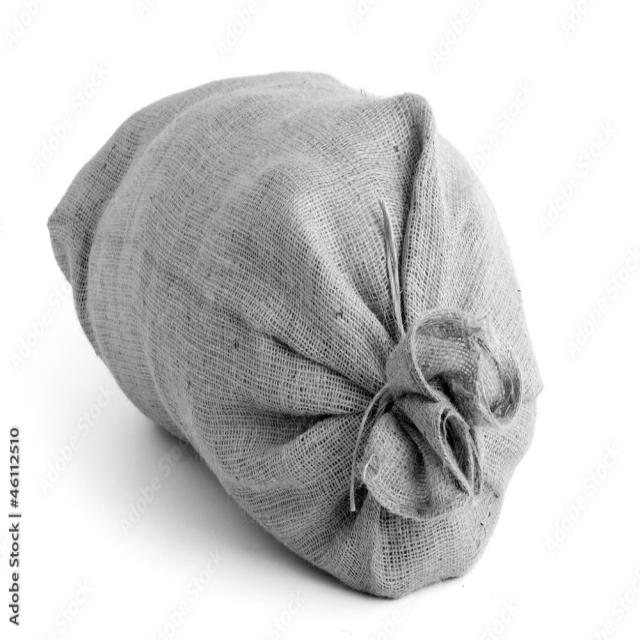sack: (47, 70, 543, 600)
